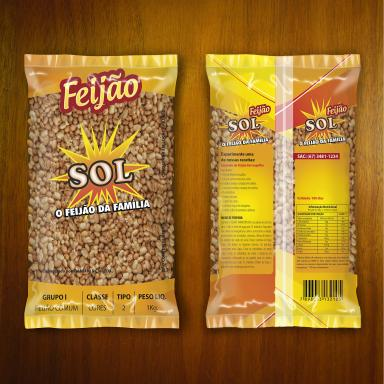beans package: (25, 55, 178, 328), (207, 55, 360, 327)
